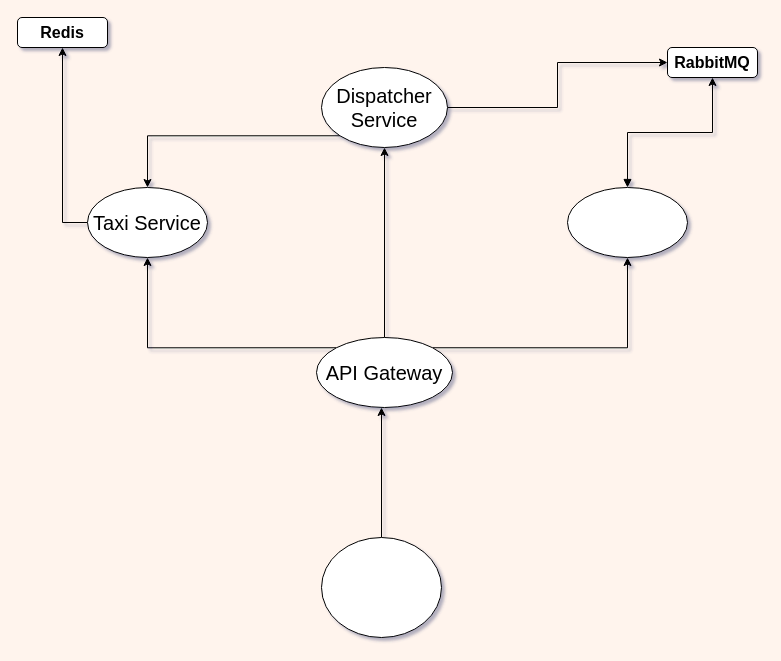
This 781x661 diagram has some shape labels left out. The shapes that lost their labels are listed below. From the top down, each one's centre as x and y in pixels, then its label:
(627,222): Ride Service
(381,587): Client Simulation- Service
